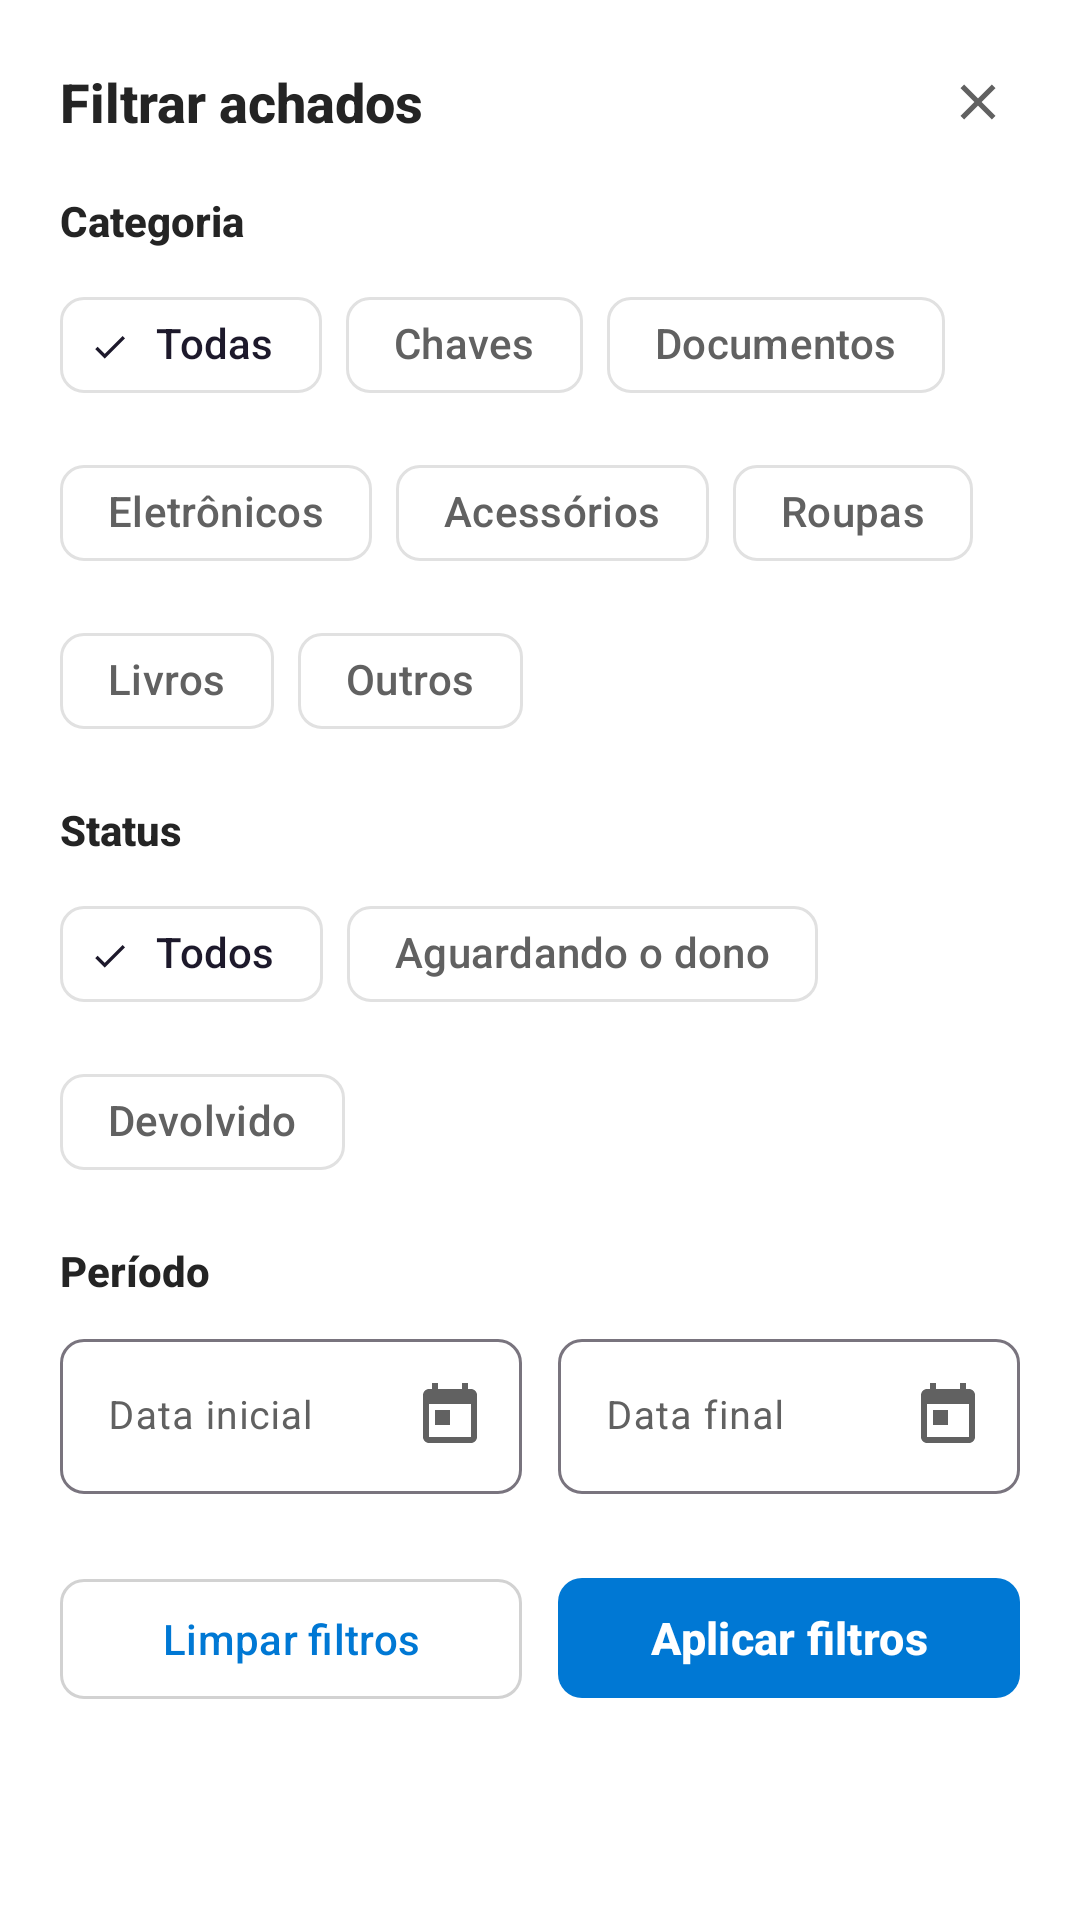

Named icons in this screenshot (1080px x 1920px) and their centers, (x,y):
Fechar: (978,102)
